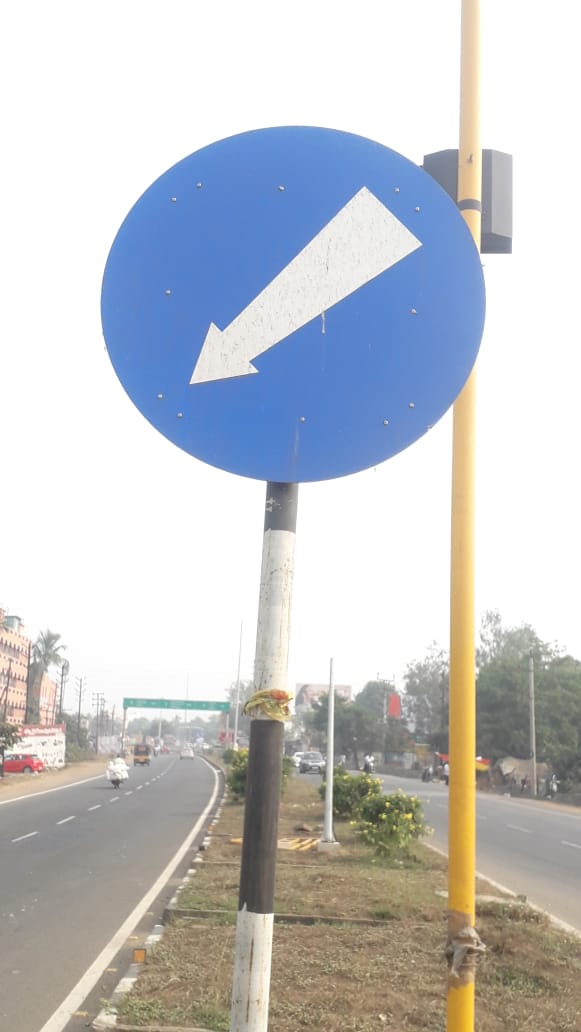go left: (101, 105, 472, 515)
